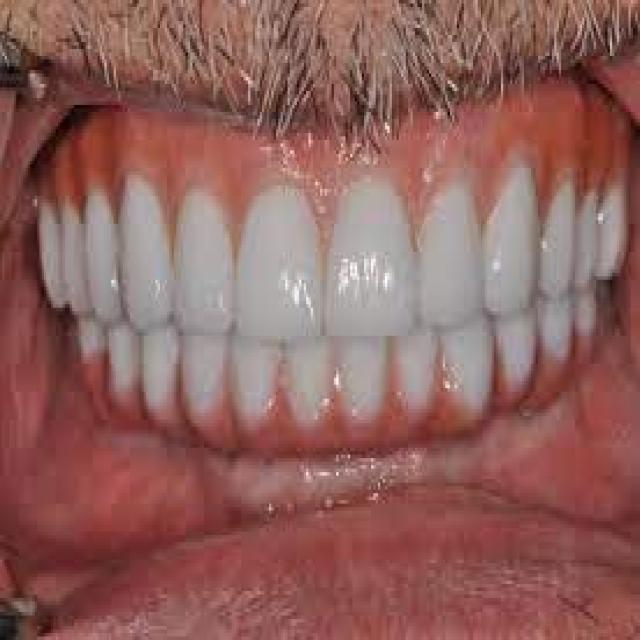tooth: (322, 164, 420, 350), (234, 178, 325, 357), (174, 168, 234, 350), (116, 164, 174, 336), (426, 168, 484, 332), (492, 154, 542, 318), (443, 311, 496, 423), (234, 318, 283, 434), (288, 325, 338, 437), (183, 318, 232, 427), (84, 168, 118, 325), (548, 147, 578, 311), (392, 318, 438, 423), (346, 325, 390, 430), (494, 304, 538, 402), (141, 314, 181, 420), (538, 287, 573, 374)
